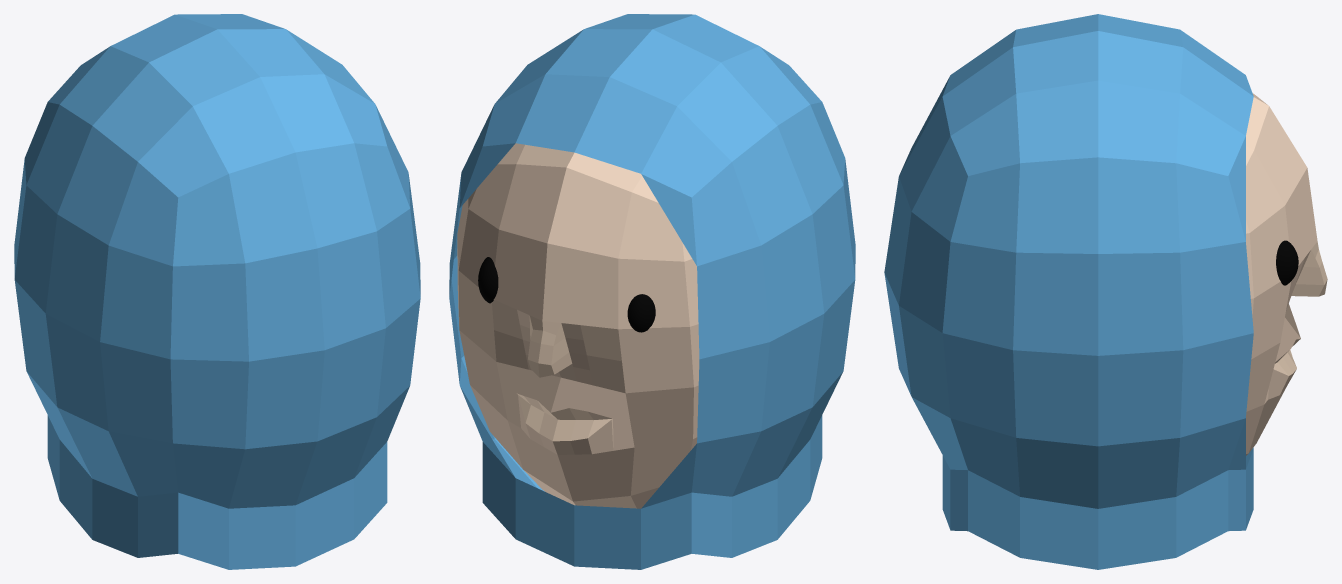
File: HeadRamsha.fbx
The picture shows the model from 3 angles, left to right: view 1: azimuth 30°, elevation 25°; view 2: azimuth 150°, elevation 25°; view 3: azimuth 270°, elevation 25°; orthographic projection.
Visible parts, largest first — view 1: Headcover; view 2: Headcover, Head, Eyes; view 3: Headcover, Head, Eyes.
Part boxes in pixels (x1,y1,x2,y2): Headcover: (14, 14, 420, 569); Headcover: (449, 14, 855, 569); Head: (457, 143, 699, 508); Eyes: (478, 257, 655, 332); Headcover: (884, 14, 1253, 569); Head: (1246, 93, 1327, 455); Eyes: (1276, 240, 1298, 285).
Size of the model in its own units: 132 by 176 by 148.
